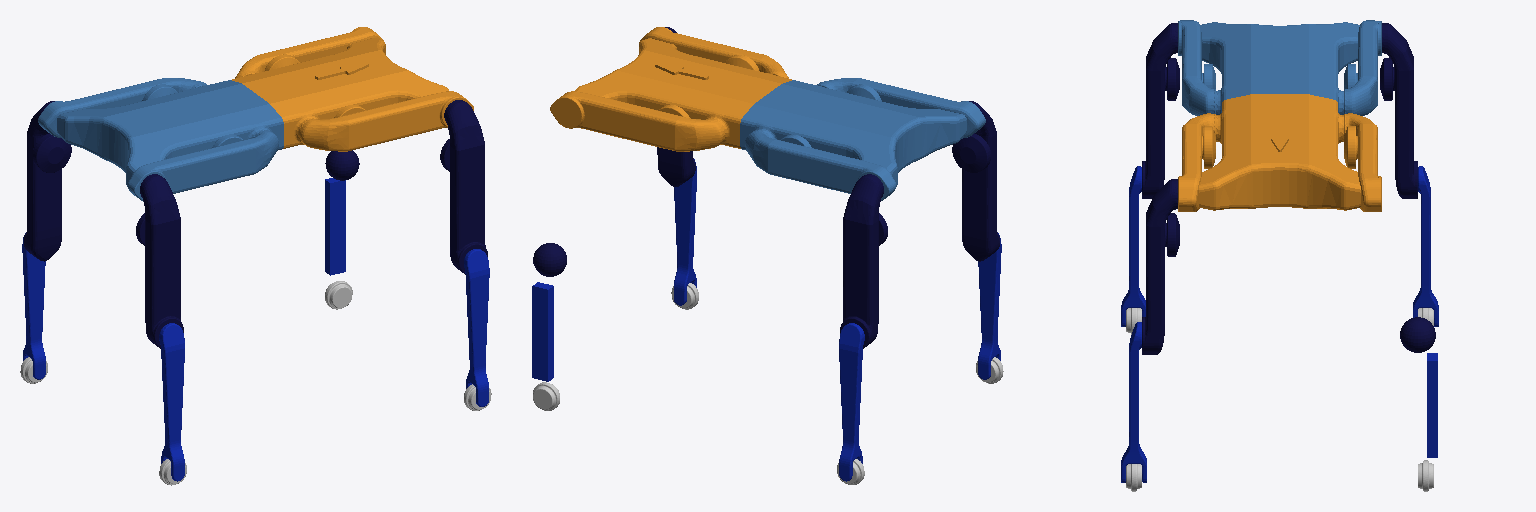
The robot description file, URDF, robot "solo":
<?xml version="1.0" ?>
<!-- =================================================================================== -->
<!-- |    This document was autogenerated by xacro from /usr/local/lib/python3.9/site-packages/robot_properties_solo/resources/xacro/solo8.urdf.xacro | -->
<!-- |    EDITING THIS FILE BY HAND IS NOT RECOMMENDED                                 | -->
<!-- =================================================================================== -->
<robot name="solo" xmlns:controller="http://playerstage.sourceforge.net/gazebo/xmlschema/#controller" xmlns:interface="http://playerstage.sourceforge.net/gazebo/xmlschema/#interface" xmlns:sensor="http://playerstage.sourceforge.net/gazebo/xmlschema/#sensor" xmlns:xacro="http://playerstage.sourceforge.net/gazebo/xmlschema/#interface">
  <!-- This file is based on: https://atlas.is.localnet/confluence/display/AMDW/Quadruped+URDF+Files -->
  <link name="torso_front">
    <!-- BASE LINK INERTIAL -->
    <inertial>
      <origin rpy="0 0 0" xyz="0 0 0"/>
      <!-- <mass value="0.71657546"/> -->
      <mass value="1.02195485"/>
      <!-- The base is extremely symmetrical. -->
      <inertia ixx="0.00533767" ixy="-0.00000516" ixz="0.00000122" iyy="0.01314118" iyz="0.00000061" izz="0.01821833"/>
    </inertial>
    <!-- BASE LINK VISUAL -->
    <visual>
      <origin rpy="0 0 0" xyz="0 0 0"/>
      <geometry>
        <mesh filename="../meshes/solo_torso_front.dae"/>
      </geometry>
      <material name="ftorso_mat">
        <color rgba="0.9 0.6 0.2 1"/>
      </material>
    </visual>
    <!-- BASE LINK COLLISION -->
    <collision>
      <origin rpy="0 0 0" xyz="0.11 0 0"/>
      <geometry>
        <box size="0.2 0.18 0.042"/>
      </geometry>
    </collision>
    <!-- Bullet specific paramters -->
    <contact>
      <lateral_friction value="1.0"/>
      <restitution value="0.5"/>
    </contact>
  </link>
  <!-- SPIN:Between the torso -->
  <joint name="spine_joint" type="revolute">
    <parent link="torso_front"/>
    <child link="torso_back"/>
    <limit effort="1.154579" lower="-4" upper="4" velocity="25"/>
    <!-- joints rotates around the y-axis -->
    <axis xyz="1 0 0"/>
    <origin rpy="0 0 0" xyz="0 0 0"/>
    <!-- pybullet simulation parameters -->
    <dynamics damping="0.0" friction="0.0"/>
  </joint>
  <link name="torso_back">
    <!-- BASE LINK INERTIAL -->
    <inertial>
      <origin rpy="0 0 0" xyz="0 0 0"/>
      <mass value="1.02195485"/>
      <!-- The base is extremely symmetrical. -->
      <inertia ixx="0.00533767" ixy="-0.00000516" ixz="0.00000122" iyy="0.01314118" iyz="0.00000061" izz="0.01821833"/>
    </inertial>
    <!-- BASE LINK VISUAL -->
    <visual>
      <origin rpy="0 0 0" xyz="0 0 0"/>
      <geometry>
        <mesh filename="../meshes/solo_torso_back.dae"/>
      </geometry>
      <material name="btorso_mat">
        <color rgba="0.3 0.5 0.7 1"/>
      </material>
    </visual>
    <!-- BASE LINK COLLISION -->
    <collision>
      <origin rpy="0 0 0" xyz="-0.11 0 0"/>
      <geometry>
        <box size="0.2 0.18 0.042"/>
      </geometry>
    </collision>
    <!-- Bullet specific paramters -->
    <contact>
      <lateral_friction value="1.0"/>
      <restitution value="0.5"/>
    </contact>
  </link>
  <!-- END BASE LINK -->
  <!-- Joint between the base and the ${prefix} upper leg -->
  <joint name="FL_HFE" type="revolute">
    <parent link="torso_front"/>
    <child link="FL_UPPER_LEG"/>
    <limit effort="1.154579" lower="0" upper="1.5707963" velocity="15"/>
    <!-- joints rotates around the y-axis -->
    <axis xyz="0 1 0"/>
    <origin rpy="0 0 0" xyz="0.19 0.1046 0"/>
    <!-- pybullet simulation parameters -->
    <dynamics damping="0.0" friction="0.0"/>
  </joint>
  <link name="FL_UPPER_LEG">
    <!-- Left upper leg inertia -->
    <inertial>
      <origin rpy="0 0 0" xyz="0.00001377 0.01935853 -0.07870700"/>
      <mass value="0.14853845"/>
      <inertia ixx="0.00041107" ixy="0.0" ixz="0.0" iyy="0.00041193" iyz="0.00004671" izz="0.00003024"/>
    </inertial>
    <!-- UPPER LEG LINK VISUAL -->
    <visual>
      <origin rpy="0 0 0" xyz="0 0.037450000000000004 -0.16"/>
      <geometry>
        <!-- sphere radius taken from shell radius in CAD files-->
        <sphere radius="0.0185"/>
      </geometry>
      <!-- <origin rpy="0 0 0" xyz="0 0 0"/>
      <geometry>
        <mesh filename="../meshes/solo_upper_leg_left_side.dae"/>
      </geometry> -->
      <material name="fthigh_mat">
        <color rgba="0.1 0.1 0.3 1"/>
      </material>
    </visual>
    <!-- UPPER LEG LINK COLLISION -->
    <collision>
      <origin rpy="0 0 0" xyz="0 0.037450000000000004 -0.16"/>
      <geometry>
        <sphere radius="0.0185"/>
      </geometry>
    </collision>
    <!-- Bullet specific paramters -->
    <contact>
      <lateral_friction value="1.0"/>
      <restitution value="0.5"/>
    </contact>
  </link>
  <!-- END UPPER LEG LINK -->
  <!-- KFE: Joint between the upper leg and the lower leg -->
  <joint name="FL_KFE" type="revolute">
    <parent link="FL_UPPER_LEG"/>
    <child link="FL_LOWER_LEG"/>
    <limit effort="1.154579" lower="-3.14" upper="0" velocity="15"/>
    <!-- joints rotates around the y-axis -->
    <axis xyz="0 1 0"/>
    <origin rpy="0 0 0" xyz="0 0.037450000000000004 -0.16"/>
    <!-- pybullet simulation parameters -->
    <dynamics damping="0.0" friction="0.0"/>
  </joint>
  <link name="FL_LOWER_LEG">
    <!-- Left lower leg inertia -->
    <inertial>
      <origin rpy="0 0 0" xyz="0.0 0.00787644 -0.08928215"/>
      <mass value="0.03070001"/>
      <inertia ixx="0.00012024" ixy="0.0" ixz="0.0" iyy="0.00012029" iyz="0.00000305" izz="0.00000216"/>
    </inertial>
    <!-- LOWER LEG LINK VISUAL -->
    <visual>
      <origin rpy="0 0 0" xyz="0 0.015 -0.08"/>
      <geometry>
        <!-- sphere radius taken from shell radius in CAD files-->
        <box size="0.02 0.012 0.11"/>
      </geometry>
      <!-- <origin rpy="0 0 0" xyz="0 0 0"/>
      <geometry>
        <mesh filename="../meshes/solo_lower_leg_left_side.dae"/>
      </geometry> -->
      <material name="fshin_mat">
        <color rgba="0.1 0.2 0.7 0.4"/>
      </material>
    </visual>
    <!-- LOWER LEG LINK COLLISION -->
    <collision>
      <origin rpy="0 0 0" xyz="0 0.015 -0.08"/>
      <geometry>
        <box size="0.02 0.012 0.11"/>
      </geometry>
    </collision>
    <!-- Bullet specific paramters -->
    <contact>
      <lateral_friction value="1.0"/>
      <restitution value="0.5"/>
    </contact>
  </link>
  <!-- END LOWER LEG LINK -->
  <!-- KFE: Joint between the upper leg and the lower leg -->
  <joint name="FL_ANKLE" type="fixed" dont_collapse="true">
    <parent link="FL_LOWER_LEG"/>
    <child link="FL_FOOT"/>
    <origin rpy="0 0 0" xyz="0 0.008 -0.16"/>
    <!-- pybullet simulation parameters -->
    <dynamics damping="0.0" friction="0.0"/>
  </joint>
  <link name="FL_FOOT">
    <!-- FOOT INERTIAL -->
    <!-- This link is symmetrical left or right -->
    <inertial>
      <origin rpy="0 0 0" xyz="0 0 0.00035767"/>
      <mass value="0.00693606"/>
      <inertia ixx="0.00000057" ixy="0.0" ixz="0.0" iyy="0.00000084" iyz="0.0" izz="0.00000053"/>
    </inertial>
    <!-- FOOT VISUAL -->
    <visual>
      <origin rpy="0 0 0" xyz="0 0 0"/>
      <geometry>
        <mesh filename="../meshes/solo_foot.dae"/>
      </geometry>
      <material name="grey">
        <color rgba="0.8 0.8 0.8 1.0"/>
      </material>
    </visual>
    <!-- FOOT COLLISION -->
    <collision>
      <origin rpy="0 0 0" xyz="0 0 0"/>
      <geometry>
        <!-- sphere radius taken from rubber radius in CAD files-->
        <sphere radius="0.0159"/>
      </geometry>
    </collision>
    <!-- Bullet specific paramters -->
    <contact>
      <lateral_friction value="1.0"/>
      <restitution value="0.5"/>
    </contact>
  </link>
  <!-- END LOWER LEG LINK -->
  <!-- Joint between the base and the ${prefix} upper leg -->
  <joint name="FR_HFE" type="revolute">
    <parent link="torso_front"/>
    <child link="FR_UPPER_LEG"/>
    <limit effort="1.154579" lower="0" upper="1.5707963" velocity="15"/>
    <!-- joints rotates around the y-axis -->
    <axis xyz="0 1 0"/>
    <origin rpy="0 0 0" xyz="0.19 -0.1046 0"/>
    <!-- pybullet simulation parameters -->
    <dynamics damping="0.0" friction="0.0"/>
  </joint>
  <link name="FR_UPPER_LEG">
    <!-- Right upper leg inertia -->
    <inertial>
      <origin rpy="0 0 0" xyz="-0.00001377 -0.01935853 -0.07870700"/>
      <mass value="0.14853845"/>
      <inertia ixx="0.00041107" ixy="0.0" ixz="0.0" iyy="0.00041193" iyz="-0.00004671" izz="0.00003024"/>
    </inertial>
    <!-- UPPER LEG LINK VISUAL -->
    <visual>
      <origin rpy="0 0 0" xyz="0 0 0"/>
      <geometry>
        <mesh filename="../meshes/solo_upper_leg_right_side.dae"/>
      </geometry>
      <material name="fthigh_mat">
        <color rgba="0.1 0.1 0.3 1"/>
      </material>
    </visual>
    <!-- UPPER LEG LINK COLLISION -->
    <collision>
      <origin rpy="0 0 0" xyz="0 -0.037450000000000004 -0.16"/>
      <geometry>
        <sphere radius="0.0185"/>
      </geometry>
    </collision>
    <!-- Bullet specific paramters -->
  </link>
  <!-- END UPPER LEG LINK -->
  <!-- KFE: Joint between the upper leg and the lower leg -->
  <joint name="FR_KFE" type="revolute">
    <parent link="FR_UPPER_LEG"/>
    <child link="FR_LOWER_LEG"/>
    <limit effort="1.154579" lower="-3.14" upper="0" velocity="15"/>
    <!-- joints rotates around the y-axis -->
    <axis xyz="0 1 0"/>
    <origin rpy="0 0 0" xyz="0 -0.037450000000000004 -0.16"/>
    <!-- pybullet simulation parameters -->
    <dynamics damping="0.0" friction="0.0"/>
  </joint>
  <link name="FR_LOWER_LEG">
    <!-- Right lower leg inertia -->
    <inertial>
      <origin rpy="0 0 0" xyz="0.0 0.00787644 -0.08928215"/>
      <mass value="0.03070001"/>
      <inertia ixx="0.00012024" ixy="0.0" ixz="0.0" iyy="0.00012029" iyz="-0.00000305" izz="0.00000216"/>
    </inertial>
    <!-- LOWER LEG LINK VISUAL -->
    <visual>
      <origin rpy="0 0 0" xyz="0 0 0"/>
      <geometry>
        <mesh filename="../meshes/solo_lower_leg_right_side.dae"/>
      </geometry>
      <material name="fshin_mat">
        <color rgba="0.1 0.2 0.7 0.4"/>
      </material>
    </visual>
    <!-- LOWER LEG LINK COLLISION -->
    <collision>
      <origin rpy="0 0 0" xyz="0 -0.015 -0.08"/>
      <geometry>
        <box size="0.02 0.012 0.11"/>
      </geometry>
    </collision>
    <!-- Bullet specific paramters -->
  </link>
  <!-- END LOWER LEG LINK -->
  <!-- KFE: Joint between the upper leg and the lower leg -->
  <joint name="FR_ANKLE" type="fixed" dont_collapse="true">
    <parent link="FR_LOWER_LEG"/>
    <child link="FR_FOOT"/>
    <origin rpy="0 0 0" xyz="0 -0.008 -0.16"/>
    <!-- pybullet simulation parameters -->
    <dynamics damping="0.0" friction="0.0"/>
  </joint>
  <link name="FR_FOOT">
    <!-- FOOT INERTIAL -->
    <!-- This link is symmetrical left or right -->
    <inertial>
      <origin rpy="0 0 0" xyz="0 0 0.00035767"/>
      <mass value="0.00693606"/>
      <inertia ixx="0.00000057" ixy="0.0" ixz="0.0" iyy="0.00000084" iyz="0.0" izz="0.00000053"/>
    </inertial>
    <!-- FOOT VISUAL -->
    <visual>
      <origin rpy="0 0 0" xyz="0 0 0"/>
      <geometry>
        <mesh filename="../meshes/solo_foot.dae"/>
      </geometry>
      <material name="grey">
        <color rgba="0.8 0.8 0.8 1.0"/>
      </material>
    </visual>
    <!-- FOOT COLLISION -->
    <collision>
      <origin rpy="0 0 0" xyz="0 0 0"/>
      <geometry>
        <!-- sphere radius taken from rubber radius in CAD files-->
        <sphere radius="0.0159"/>
      </geometry>
    </collision>
    <!-- Bullet specific paramters -->
  </link>
  <!-- END LOWER LEG LINK -->
  <!-- Joint between the base and the ${prefix} upper leg -->
  <joint name="HL_HFE" type="revolute">
    <parent link="torso_back"/>
    <child link="HL_UPPER_LEG"/>
    <limit effort="1.154579" lower="-1.5707963" upper="0" velocity="15"/>
    <!-- joints rotates around the y-axis -->
    <axis xyz="0 1 0"/>
    <origin rpy="0 0 0" xyz="-0.19 0.1046 0"/>
    <!-- pybullet simulation parameters -->
    <dynamics damping="0.0" friction="0.0"/>
  </joint>
  <link name="HL_UPPER_LEG">
    <!-- Left upper leg inertia -->
    <inertial>
      <origin rpy="0 0 0" xyz="0.00001377 0.01935853 -0.07870700"/>
      <mass value="0.14853845"/>
      <inertia ixx="0.00041107" ixy="0.0" ixz="0.0" iyy="0.00041193" iyz="0.00004671" izz="0.00003024"/>
    </inertial>
    <!-- UPPER LEG LINK VISUAL -->
    <visual>
      <origin rpy="0 0 0" xyz="0 0 0"/>
      <geometry>
        <mesh filename="../meshes/solo_upper_leg_left_side.dae"/>
      </geometry>
      <material name="bthigh_mat">
        <color rgba="0.1 0.1 0.3 1"/>
      </material>
    </visual>
    <!-- UPPER LEG LINK COLLISION -->
    <collision>
      <origin rpy="0 0 0" xyz="0 0.037450000000000004 -0.16"/>
      <geometry>
        <sphere radius="0.0185"/>
      </geometry>
    </collision>
    <!-- Bullet specific paramters -->
  </link>
  <!-- END UPPER LEG LINK -->
  <!-- KFE: Joint between the upper leg and the lower leg -->
  <joint name="HL_KFE" type="revolute">
    <parent link="HL_UPPER_LEG"/>
    <child link="HL_LOWER_LEG"/>
    <limit effort="1.154579" lower="0" upper="3.14" velocity="15"/>
    <!-- joints rotates around the y-axis -->
    <axis xyz="0 1 0"/>
    <origin rpy="0 0 0" xyz="0 0.037450000000000004 -0.16"/>
    <!-- pybullet simulation parameters -->
    <dynamics damping="0.0" friction="0.0"/>
  </joint>
  <link name="HL_LOWER_LEG">
    <!-- Left lower leg inertia -->
    <inertial>
      <origin rpy="0 0 0" xyz="0.0 0.00787644 -0.08928215"/>
      <mass value="0.03070001"/>
      <inertia ixx="0.00012024" ixy="0.0" ixz="0.0" iyy="0.00012029" iyz="0.00000305" izz="0.00000216"/>
    </inertial>
    <!-- LOWER LEG LINK VISUAL -->
    <visual>
      <origin rpy="0 0 0" xyz="0 0 0"/>
      <geometry>
        <mesh filename="../meshes/solo_lower_leg_left_side.dae"/>
      </geometry>
      <material name="bshin_mat">
        <color rgba="0.1 0.2 0.7 0.4"/>
      </material>
    </visual>
    <!-- LOWER LEG LINK COLLISION -->
    <collision>
      <origin rpy="0 0 0" xyz="0 0.015 -0.08"/>
      <geometry>
        <box size="0.02 0.012 0.11"/>
      </geometry>
    </collision>
    <!-- Bullet specific paramters -->
  </link>
  <!-- END LOWER LEG LINK -->
  <!-- KFE: Joint between the upper leg and the lower leg -->
  <joint name="HL_ANKLE" type="fixed" dont_collapse="true">
    <parent link="HL_LOWER_LEG"/>
    <child link="HL_FOOT"/>
    <origin rpy="0 0 0" xyz="0 0.008 -0.16"/>
    <!-- pybullet simulation parameters -->
    <dynamics damping="0.0" friction="0.0"/>
  </joint>
  <link name="HL_FOOT">
    <!-- FOOT INERTIAL -->
    <!-- This link is symmetrical left or right -->
    <inertial>
      <origin rpy="0 0 0" xyz="0 0 0.00035767"/>
      <mass value="0.00693606"/>
      <inertia ixx="0.00000057" ixy="0.0" ixz="0.0" iyy="0.00000084" iyz="0.0" izz="0.00000053"/>
    </inertial>
    <!-- FOOT VISUAL -->
    <visual>
      <origin rpy="0 0 0" xyz="0 0 0"/>
      <geometry>
        <mesh filename="../meshes/solo_foot.dae"/>
      </geometry>
      <material name="grey">
        <color rgba="0.8 0.8 0.8 1.0"/>
      </material>
    </visual>
    <!-- FOOT COLLISION -->
    <collision>
      <origin rpy="0 0 0" xyz="0 0 0"/>
      <geometry>
        <!-- sphere radius taken from rubber radius in CAD files-->
        <sphere radius="0.0159"/>
      </geometry>
    </collision>
    <!-- Bullet specific paramters -->
  </link>
  <!-- END LOWER LEG LINK -->
  <!-- Joint between the base and the ${prefix} upper leg -->
  <joint name="HR_HFE" type="revolute">
    <parent link="torso_back"/>
    <child link="HR_UPPER_LEG"/>
    <!-- joints rotates around the y-axis -->
    <limit effort="1.154579" lower="-1.5707963" upper="0" velocity="15"/>
    <axis xyz="0 1 0"/>
    <origin rpy="0 0 0" xyz="-0.19 -0.1046 0"/>
    <!-- pybullet simulation parameters -->
    <dynamics damping="0.0" friction="0.0"/>
  </joint>
  <link name="HR_UPPER_LEG">
    <!-- Right upper leg inertia -->
    <inertial>
      <origin rpy="0 0 0" xyz="-0.00001377 -0.01935853 -0.07870700"/>
      <mass value="0.14853845"/>
      <inertia ixx="0.00041107" ixy="0.0" ixz="0.0" iyy="0.00041193" iyz="-0.00004671" izz="0.00003024"/>
    </inertial>
    <!-- UPPER LEG LINK VISUAL -->
    <visual>
      <origin rpy="0 0 0" xyz="0 0 0"/>
      <geometry>
        <mesh filename="../meshes/solo_upper_leg_right_side.dae"/>
      </geometry>
      <material name="bthigh_mat">
        <color rgba="0.1 0.1 0.3 1"/>
      </material>
    </visual>
    <!-- UPPER LEG LINK COLLISION -->
    <collision>
      <origin rpy="0 0 0" xyz="0 -0.037450000000000004 -0.16"/>
      <geometry>
        <sphere radius="0.0185"/>
      </geometry>
    </collision>
    <!-- Bullet specific paramters -->
  </link>
  <!-- END UPPER LEG LINK -->
  <!-- KFE: Joint between the upper leg and the lower leg -->
  <joint name="HR_KFE" type="revolute">
    <parent link="HR_UPPER_LEG"/>
    <child link="HR_LOWER_LEG"/>
    <limit effort="1.154579" lower="0" upper="3.14" velocity="15"/>
    <!-- joints rotates around the y-axis -->
    <axis xyz="0 1 0"/>
    <origin rpy="0 0 0" xyz="0 -0.037450000000000004 -0.16"/>
    <!-- pybullet simulation parameters -->
    <dynamics damping="0.0" friction="0.0"/>
  </joint>
  <link name="HR_LOWER_LEG">
    <!-- Right lower leg inertia -->
    <inertial>
      <origin rpy="0 0 0" xyz="0.0 0.00787644 -0.08928215"/>
      <mass value="0.03070001"/>
      <inertia ixx="0.00012024" ixy="0.0" ixz="0.0" iyy="0.00012029" iyz="-0.00000305" izz="0.00000216"/>
    </inertial>
    <!-- LOWER LEG LINK VISUAL -->
    <visual>
      <origin rpy="0 0 0" xyz="0 0 0"/>
      <geometry>
        <mesh filename="../meshes/solo_lower_leg_right_side.dae"/>
      </geometry>
      <material name="bshin_mat">
        <color rgba="0.1 0.2 0.7 0.4"/>
      </material>
    </visual>
    <!-- LOWER LEG LINK COLLISION -->
    <collision>
      <origin rpy="0 0 0" xyz="0 -0.015 -0.08"/>
      <geometry>
        <box size="0.02 0.012 0.11"/>
      </geometry>
    </collision>
    <!-- Bullet specific paramters -->
  </link>
  <!-- END LOWER LEG LINK -->
  <!-- KFE: Joint between the upper leg and the lower leg -->
  <joint name="HR_ANKLE" type="fixed" dont_collapse="true">
    <parent link="HR_LOWER_LEG"/>
    <child link="HR_FOOT"/>
    <origin rpy="0 0 0" xyz="0 -0.008 -0.16"/>
    <!-- pybullet simulation parameters -->
    <dynamics damping="0.0" friction="0.0"/>
  </joint>
  <link name="HR_FOOT">
    <!-- FOOT INERTIAL -->
    <!-- This link is symmetrical left or right -->
    <inertial>
      <origin rpy="0 0 0" xyz="0 0 0.00035767"/>
      <mass value="0.00693606"/>
      <inertia ixx="0.00000057" ixy="0.0" ixz="0.0" iyy="0.00000084" iyz="0.0" izz="0.00000053"/>
    </inertial>
    <!-- FOOT VISUAL -->
    <visual>
      <origin rpy="0 0 0" xyz="0 0 0"/>
      <geometry>
        <mesh filename="../meshes/solo_foot.dae"/>
      </geometry>
      <material name="grey">
        <color rgba="0.8 0.8 0.8 1.0"/>
      </material>
    </visual>
    <!-- FOOT COLLISION -->
    <collision>
      <origin rpy="0 0 0" xyz="0 0 0"/>
      <geometry>
        <!-- sphere radius taken from rubber radius in CAD files-->
        <sphere radius="0.0159"/>
      </geometry>
    </collision>
    <!-- Bullet specific paramters -->
  </link>
  <!-- END LOWER LEG LINK -->
</robot>

--- What the picture shows (computed from the rendered views, not written in the file) ---
Views: 3 orthographic renders of the robot side by side, from view 1: azimuth 30°, elevation 25°; view 2: azimuth 150°, elevation 25°; view 3: azimuth 270°, elevation 25°.
Model solo with 14 links and 13 joints (9 revolute, 4 fixed), rooted at torso_front, posed every joint at zero.
Links seen in each view (by area): view 1: torso_back, torso_front, HR_UPPER_LEG, FR_UPPER_LEG, HL_UPPER_LEG, HR_LOWER_LEG, FR_LOWER_LEG, HL_LOWER_LEG, FL_LOWER_LEG, FL_UPPER_LEG, FL_FOOT; view 2: torso_back, torso_front, HL_UPPER_LEG, HR_UPPER_LEG, HL_LOWER_LEG, HR_LOWER_LEG, FR_LOWER_LEG, FL_LOWER_LEG, FR_UPPER_LEG, FL_UPPER_LEG, FL_FOOT; view 3: torso_front, torso_back, FR_UPPER_LEG, HL_UPPER_LEG, HR_UPPER_LEG, FR_LOWER_LEG, HL_LOWER_LEG, HR_LOWER_LEG, FL_LOWER_LEG, FL_UPPER_LEG.
Boxes of the visible links, left/top/right/bottom form: torso_back: left=38, top=78, right=283, bottom=201; torso_front: left=232, top=27, right=473, bottom=151; HR_UPPER_LEG: left=136, top=174, right=183, bottom=348; FR_UPPER_LEG: left=440, top=100, right=487, bottom=274; HL_UPPER_LEG: left=24, top=101, right=71, bottom=261; HR_LOWER_LEG: left=159, top=323, right=184, bottom=481; FR_LOWER_LEG: left=464, top=249, right=489, bottom=406; HL_LOWER_LEG: left=22, top=233, right=45, bottom=379; FL_LOWER_LEG: left=325, top=178, right=345, bottom=275; FL_UPPER_LEG: left=325, top=150, right=359, bottom=180; FL_FOOT: left=325, top=281, right=352, bottom=309; torso_back: left=740, top=78, right=985, bottom=200; torso_front: left=550, top=27, right=791, bottom=151; HL_UPPER_LEG: left=840, top=174, right=887, bottom=348; HR_UPPER_LEG: left=952, top=101, right=999, bottom=261; HL_LOWER_LEG: left=839, top=323, right=864, bottom=481; HR_LOWER_LEG: left=978, top=233, right=1001, bottom=379; FR_LOWER_LEG: left=674, top=159, right=696, bottom=305; FL_LOWER_LEG: left=532, top=282, right=553, bottom=381; FR_UPPER_LEG: left=657, top=27, right=695, bottom=186; FL_UPPER_LEG: left=533, top=243, right=566, bottom=276; FL_FOOT: left=533, top=382, right=559, bottom=410; torso_front: left=1178, top=94, right=1381, bottom=211; torso_back: left=1178, top=20, right=1381, bottom=115; FR_UPPER_LEG: left=1142, top=179, right=1179, bottom=354; HL_UPPER_LEG: left=1380, top=23, right=1417, bottom=198; HR_UPPER_LEG: left=1142, top=23, right=1179, bottom=198; FR_LOWER_LEG: left=1121, top=322, right=1146, bottom=482; HL_LOWER_LEG: left=1413, top=166, right=1438, bottom=326; HR_LOWER_LEG: left=1121, top=166, right=1145, bottom=326; FL_LOWER_LEG: left=1427, top=353, right=1437, bottom=457; FL_UPPER_LEG: left=1400, top=317, right=1435, bottom=352.
Size in the robot's own frame: 0.4244 by 0.327 by 0.364 metres.
12 mesh visuals loaded from 7 distinct referenced files (7 Collada DAE).
